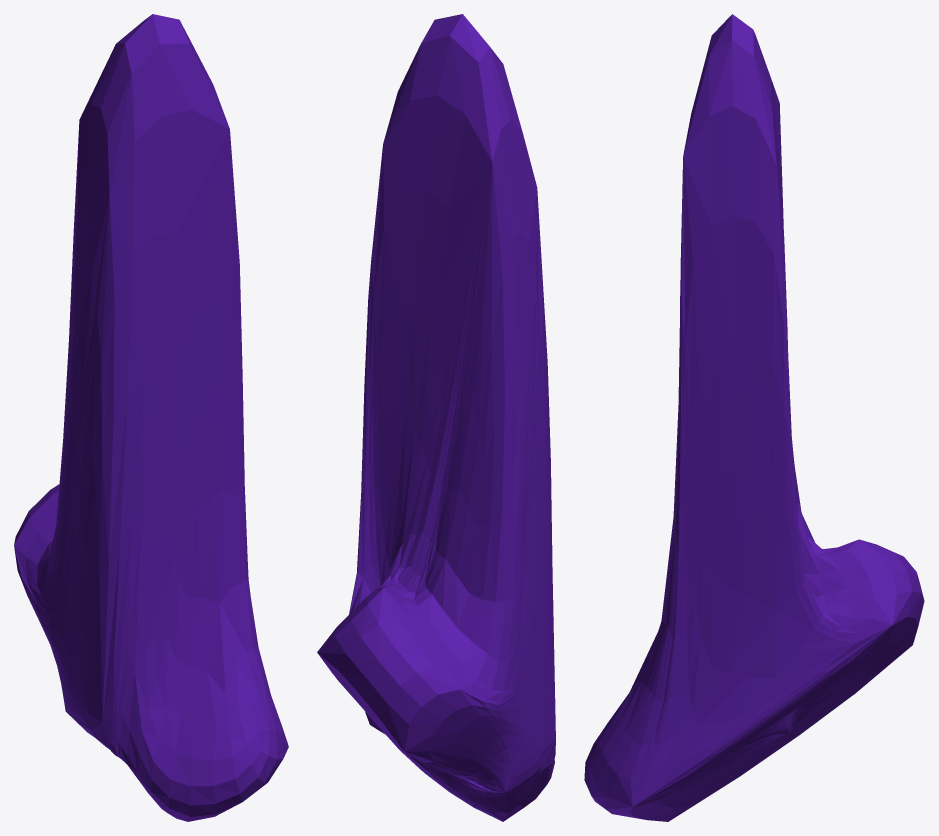
The picture shows the model from 3 angles, left to right: view 1: azimuth 30°, elevation 25°; view 2: azimuth 150°, elevation 25°; view 3: azimuth 270°, elevation 25°; orthographic projection. The views are drawn at different scales.
Parts seen in each view (by area): view 1: 362_Cube.1480; view 2: 362_Cube.1480; view 3: 362_Cube.1480.
Boxes of the visible parts, <box> form: 362_Cube.1480: <box>14,14,288,821</box>; 362_Cube.1480: <box>317,14,555,821</box>; 362_Cube.1480: <box>584,14,924,821</box>.
Bounding box in the file's own units: 2.83 × 12.82 × 4.87.
